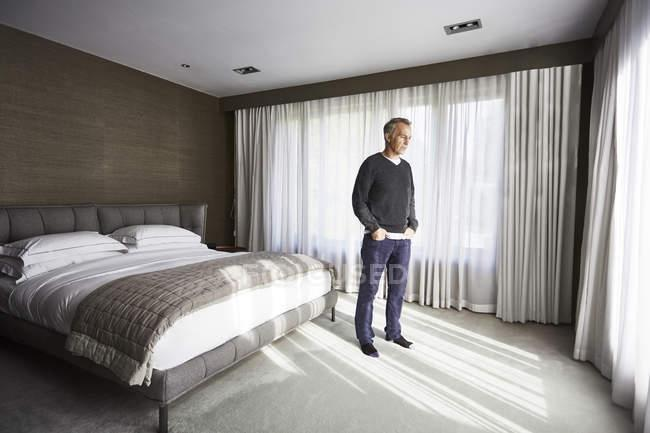FallenBody: (342, 112, 430, 360)
